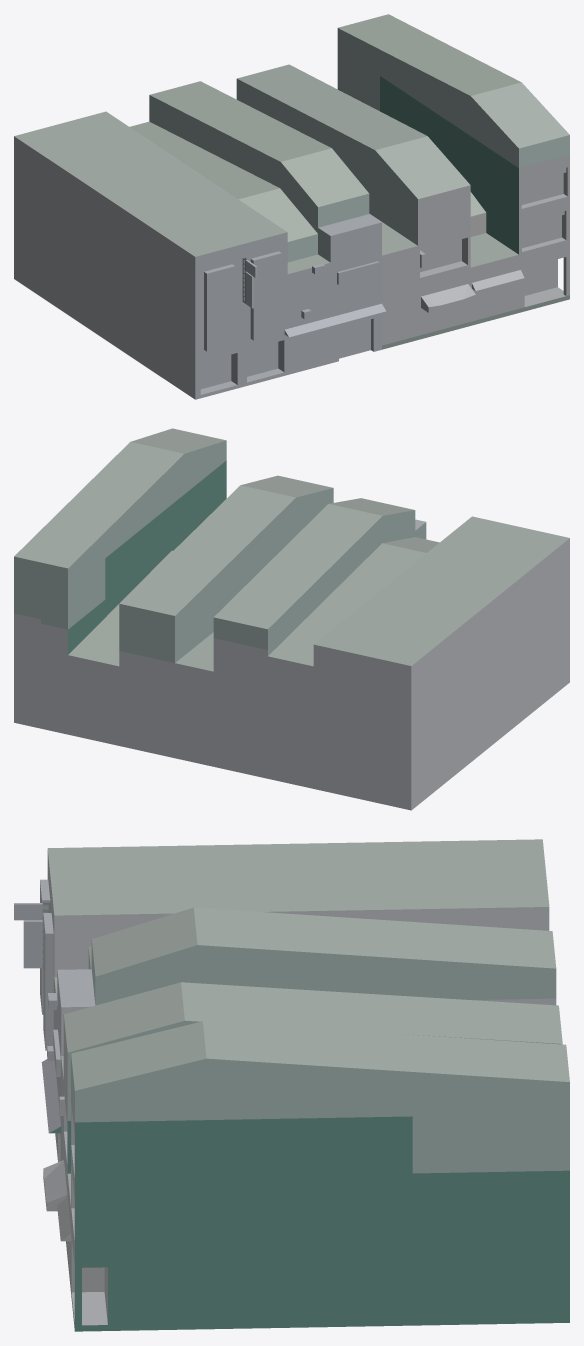
Rendered from Pasha_Block_03.fbx.
The picture shows the model from 3 angles, top to bottom: view 1: azimuth 30°, elevation 25°; view 2: azimuth 150°, elevation 25°; view 3: azimuth 270°, elevation 25°; orthographic projection. The views are drawn at different scales.
Visible parts, largest first — view 1: Pasha_Block_03; view 2: Pasha_Block_03; view 3: Pasha_Block_03.
Boxes of the visible parts, box(x1,y1,x2,y2) form: Pasha_Block_03: box(14, 14, 569, 399); Pasha_Block_03: box(14, 428, 569, 810); Pasha_Block_03: box(14, 839, 569, 1331).
Size of the model in its own units: 4055 by 1808 by 3366.
